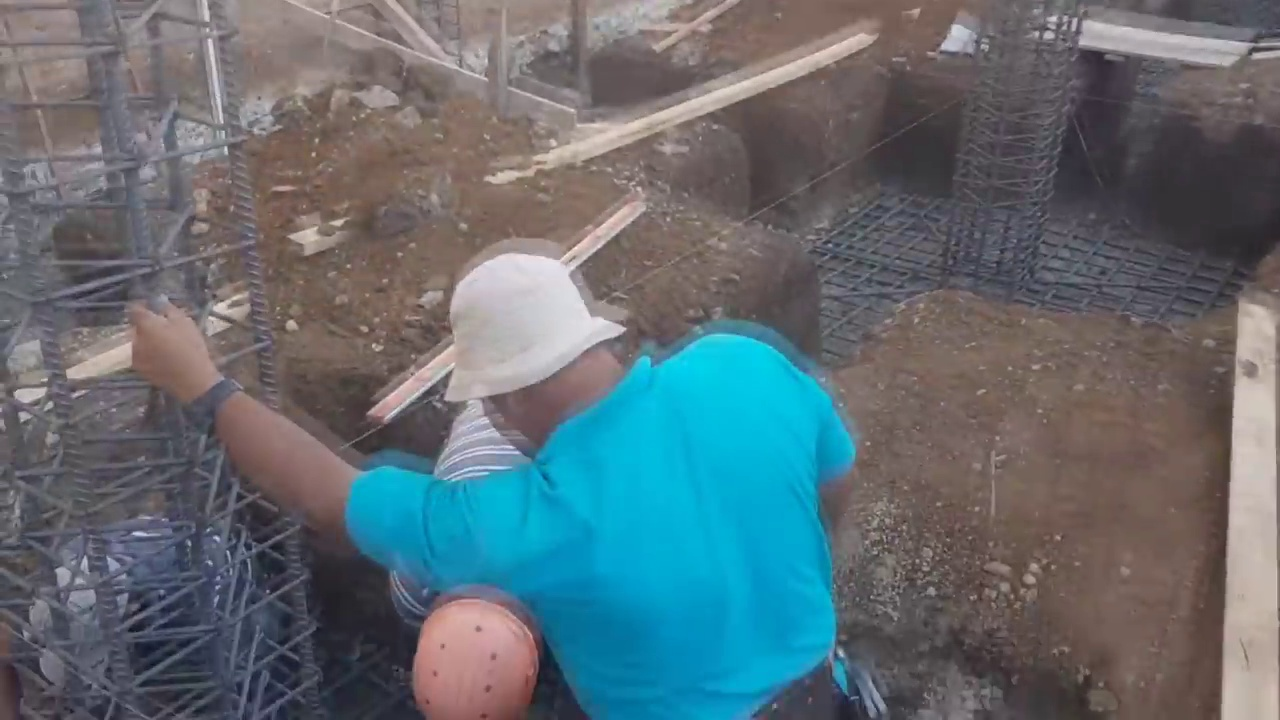helmet: (410, 603, 540, 714)
helmet-off: (441, 258, 648, 449)
helmet-on: (408, 584, 547, 719)
person: (115, 255, 847, 718), (400, 399, 547, 714)
